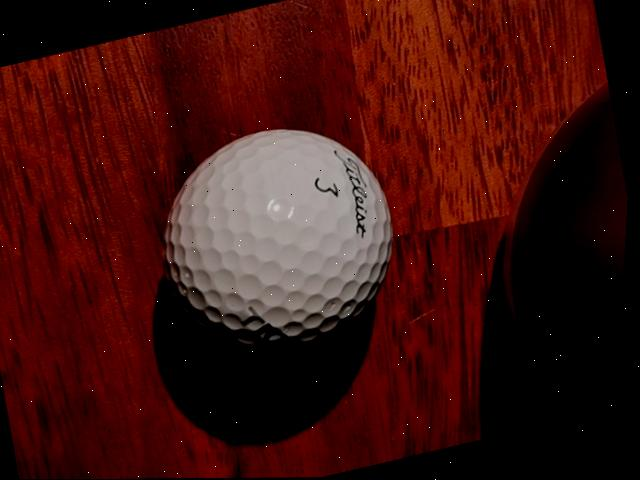Ball: (136, 105, 426, 385)
Titleist: (332, 145, 382, 242)
